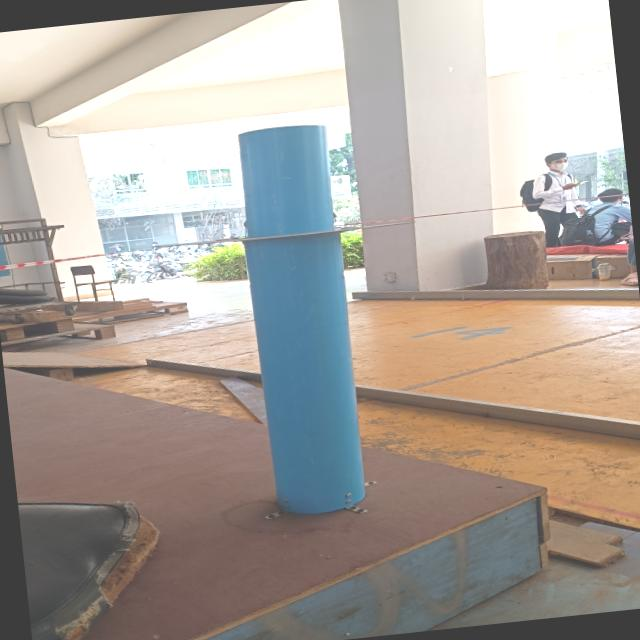pole: (238, 96, 410, 372)
